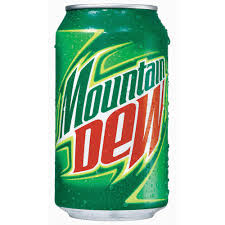can: (50, 3, 173, 222)
